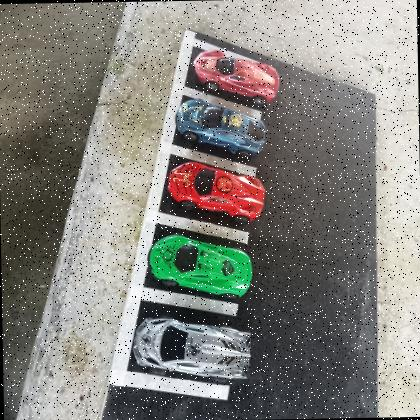Car: (132, 314, 252, 385), (146, 230, 253, 299), (167, 160, 266, 224), (174, 97, 268, 160), (191, 47, 279, 106)
